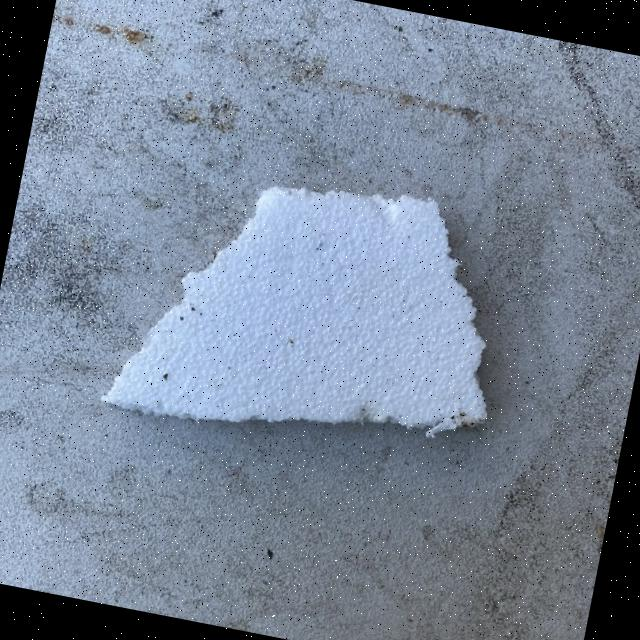styrofoam: (98, 141, 526, 479)
